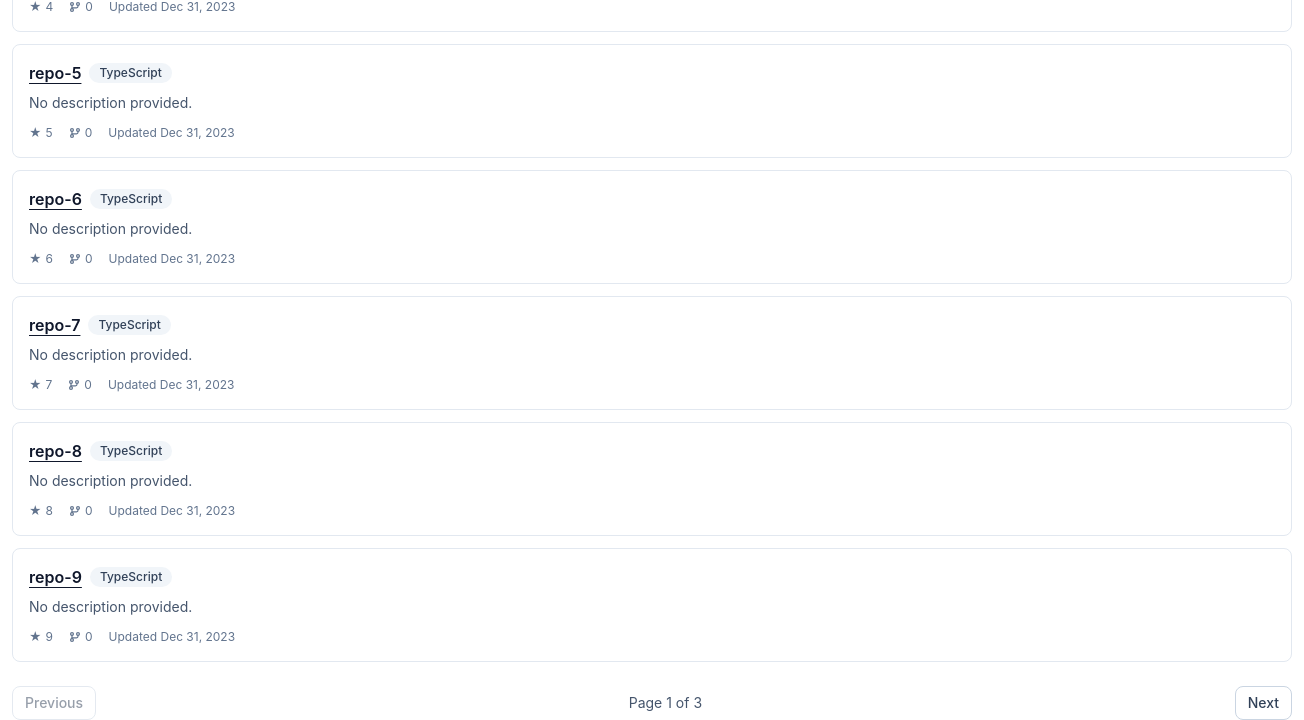
Test case: RepositoryExplorer › pagination › goes back to the first page when the language filter changes
(page scrolled)
Click the button "Next": [1263, 703] box [1235,686,1292,719]
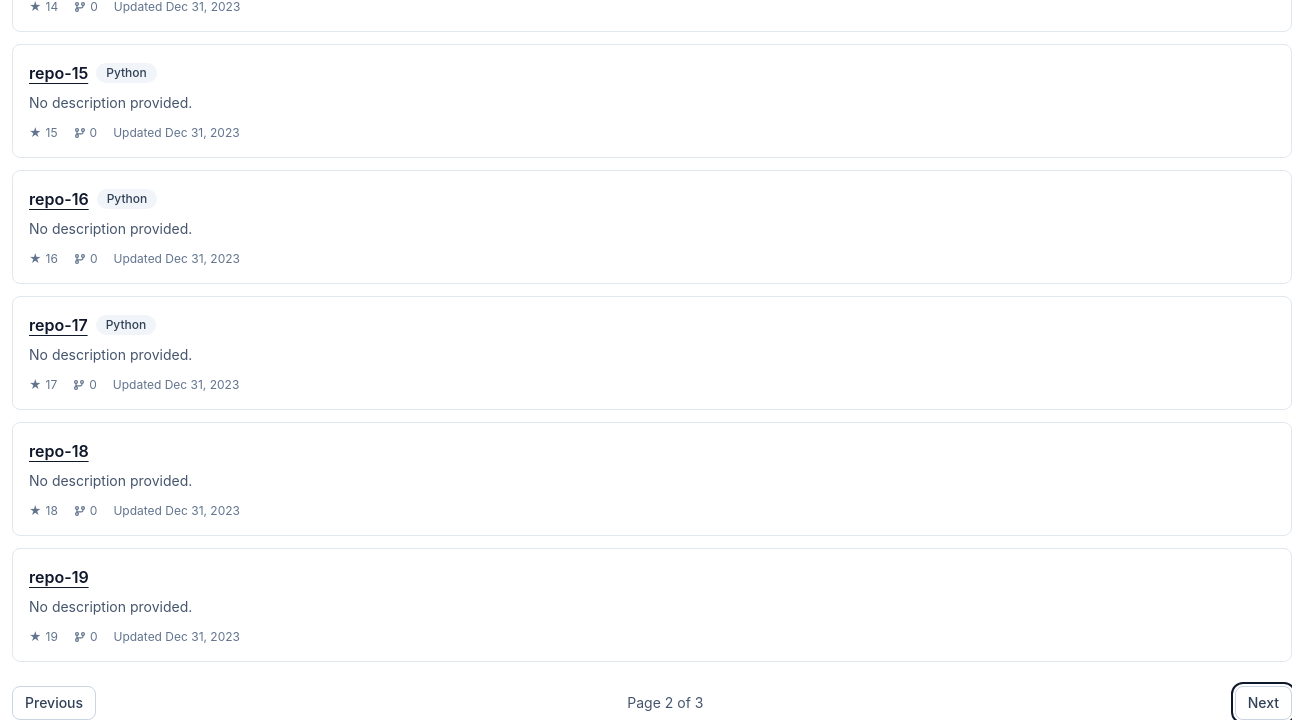
Click the button "Next": [1263, 703] box [1235,686,1292,719]
(page scrolled)
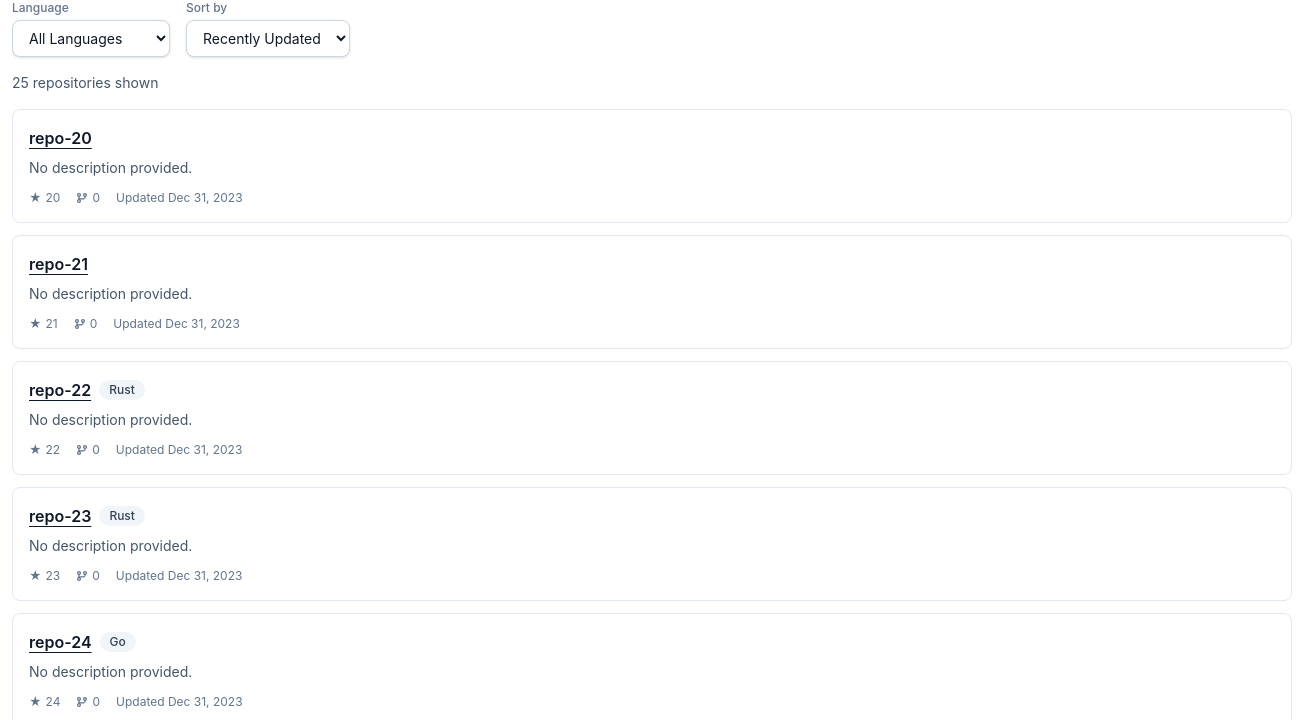
Select "TypeScript (12)" in the dropdown labelled "Language": [91, 38] box [12,20,170,57]
(page scrolled)
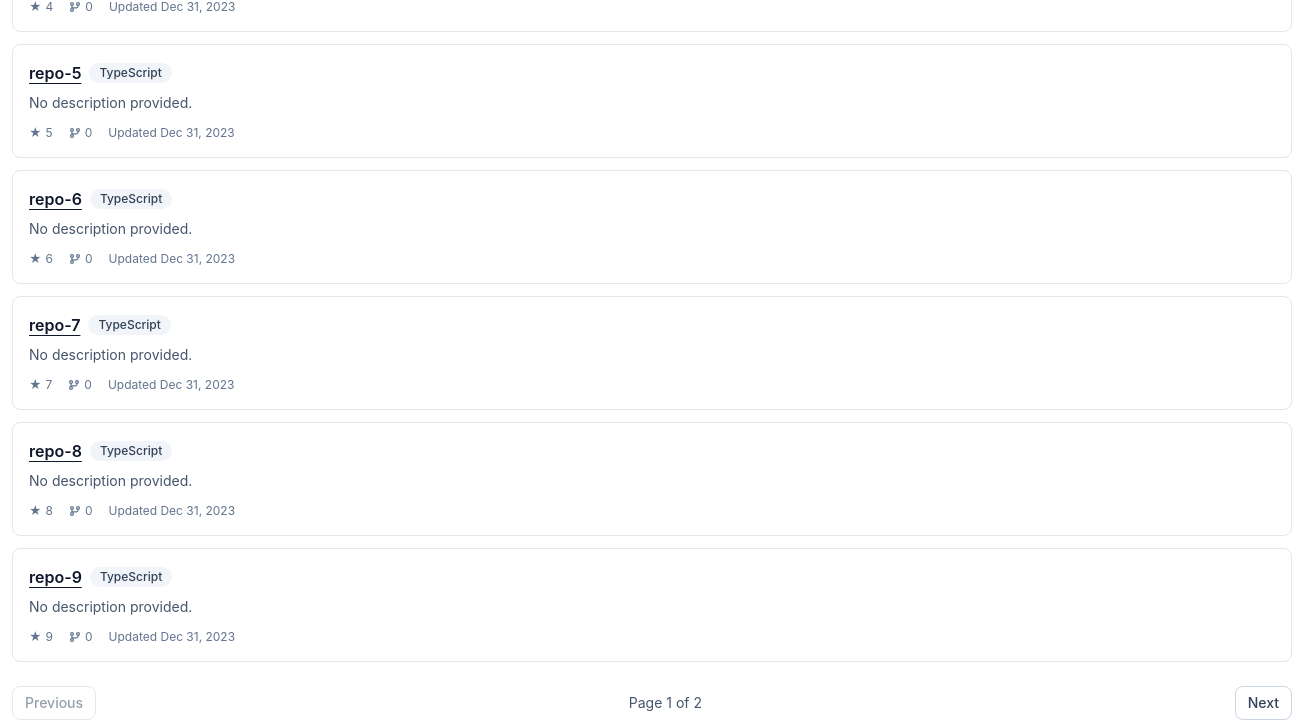
Expected: the text "Page 1 of 2" is shown, [629,693,702,713]
